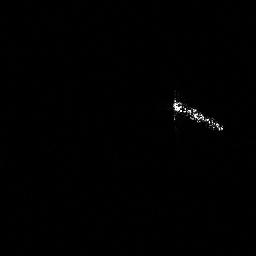ship: (169, 93, 225, 135)
